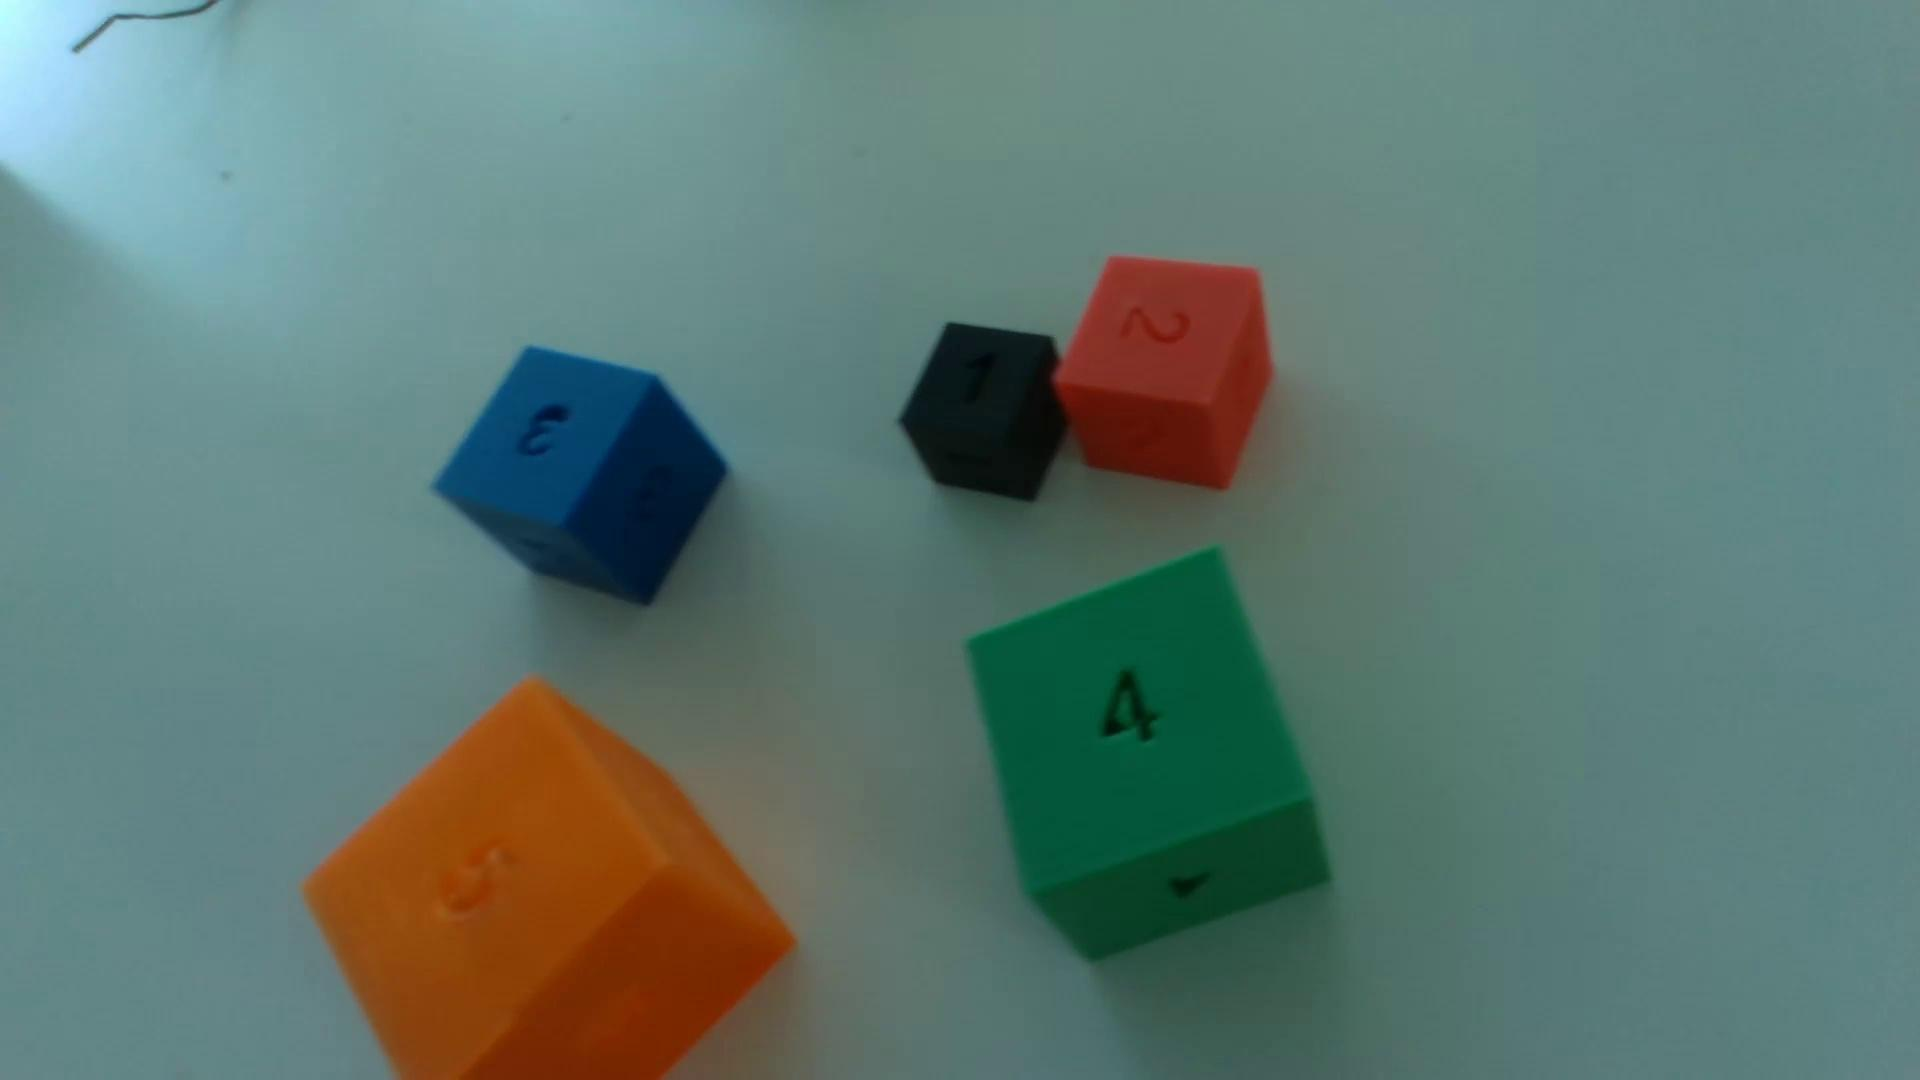black: (899, 324, 1065, 502)
blue: (434, 348, 727, 605)
green: (968, 550, 1331, 960)
orange: (305, 682, 793, 1080)
red: (1055, 258, 1273, 491)
